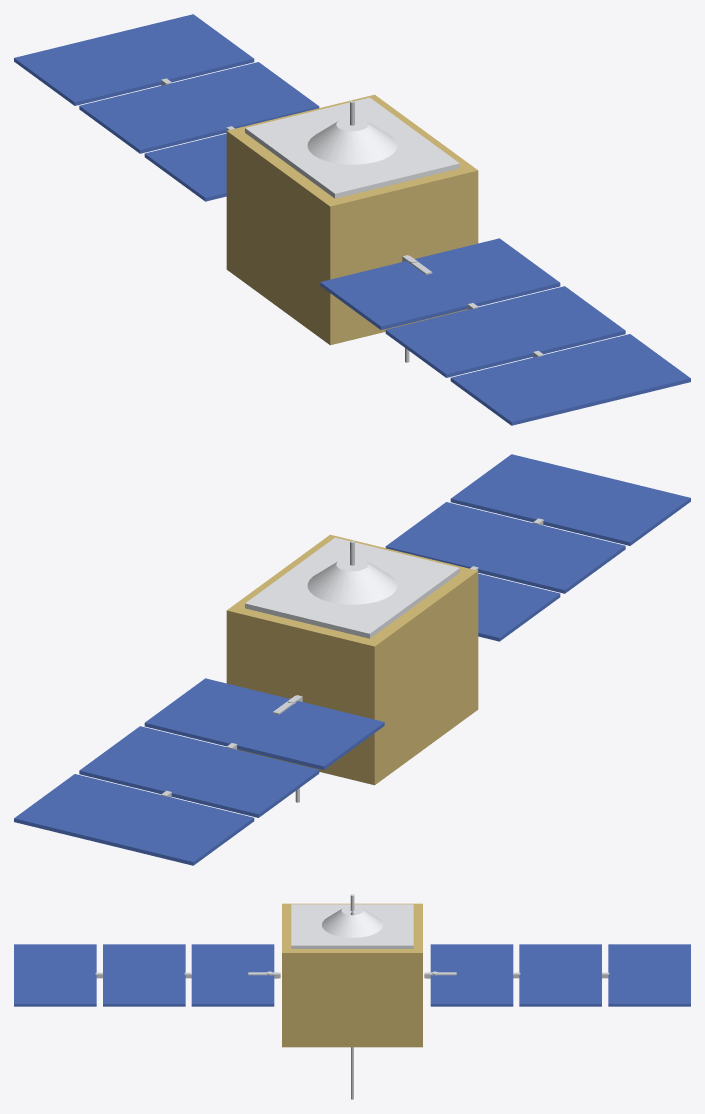
The model's file is generic-sat.glb.
The picture shows the model from 3 angles, top to bottom: view 1: azimuth 30°, elevation 25°; view 2: azimuth 150°, elevation 25°; view 3: azimuth 270°, elevation 25°; orthographic projection. The views are drawn at different scales.
Bounding box in the file's own units: 2.3 × 3.35 × 11.05.
